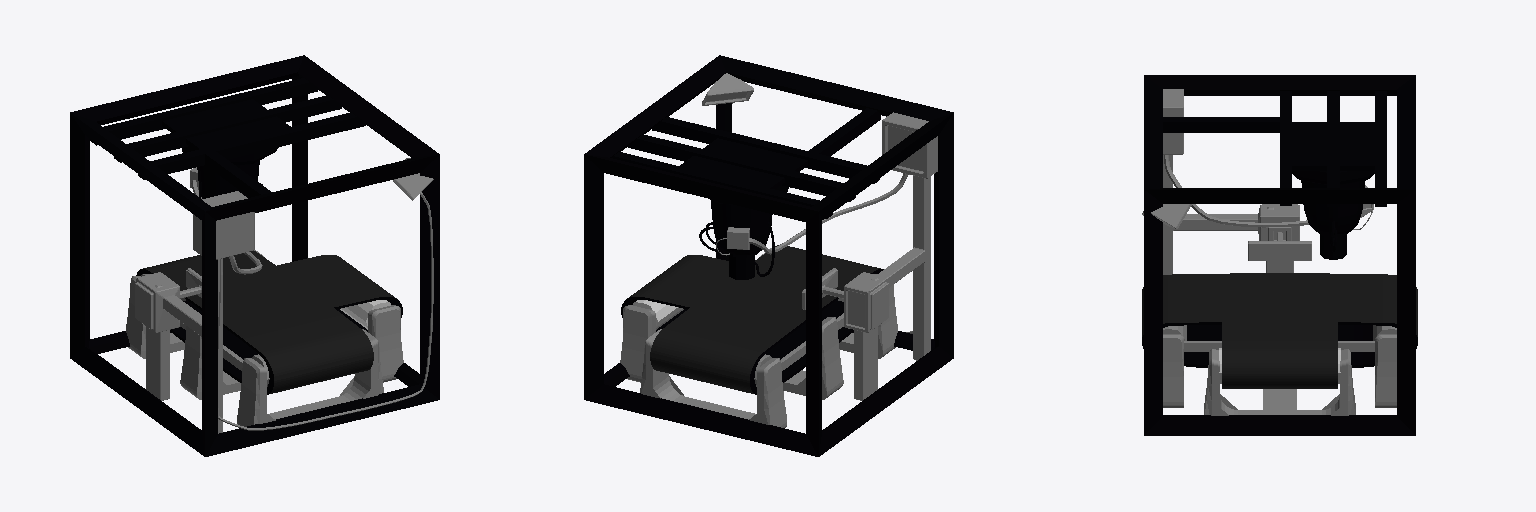
The model's file is sorting_machine.obj.
The picture shows the model from 3 angles: view 1: azimuth 30°, elevation 25°; view 2: azimuth 150°, elevation 25°; view 3: azimuth 270°, elevation 25°; orthographic projection.
Parts seen in each view (by area): view 1: Cube, belt.002, legs.002, Cube.007, Cube.004, belt.003, Plane.002, Cube.002, Cube.003, Cube.001, BézierCurve.003, Cube.008 (+1 smaller); view 2: Cube, belt.002, Cube.007, legs.002, Cube.004, belt.003, Plane.002, Cube.003, Cube.001, Cube.002, Cube.008, BézierCurve.002 (+2 smaller); view 3: Cube, belt.002, belt.003, legs.002, Cube.007, Plane.002, Cube.004, Cube.001, Cube.005, Cube.003, Cube.002, BézierCurve.002 (+3 smaller).
Boxes of the visible parts, <box> form: Cube: <box>70,55,439,456</box>; belt.002: <box>136,251,373,394</box>; legs.002: <box>126,250,403,426</box>; Cube.007: <box>135,191,254,433</box>; Cube.004: <box>138,113,365,197</box>; belt.003: <box>277,255,402,331</box>; Plane.002: <box>162,99,290,149</box>; Cube.002: <box>90,78,317,145</box>; Cube.003: <box>114,95,341,162</box>; Cube.001: <box>182,145,278,198</box>; BézierCurve.003: <box>218,192,433,430</box>; Cube.008: <box>393,158,433,200</box>; Cube: <box>584,55,953,456</box>; belt.002: <box>650,245,883,394</box>; Cube.007: <box>844,112,937,400</box>; legs.002: <box>620,248,897,427</box>; Cube.004: <box>652,108,880,183</box>; belt.003: <box>621,255,730,331</box>; Plane.002: <box>680,138,807,188</box>; Cube.003: <box>628,134,855,201</box>; Cube.001: <box>710,185,788,254</box>; Cube.002: <box>612,152,832,218</box>; Cube.008: <box>702,73,753,105</box>; BézierCurve.002: <box>749,173,908,254</box>; Cube: <box>1144,75,1415,435</box>; belt.002: <box>1142,273,1417,367</box>; belt.003: <box>1222,322,1337,388</box>; legs.002: <box>1163,334,1396,415</box>; Cube.007: <box>1163,89,1299,274</box>; Plane.002: <box>1292,122,1374,170</box>; Cube.004: <box>1163,91,1291,205</box>; Cube.001: <box>1292,171,1374,234</box>; Cube.005: <box>1248,232,1311,260</box>; Cube.003: <box>1327,91,1339,206</box>; Cube.002: <box>1375,91,1386,206</box>; BézierCurve.002: <box>1164,155,1308,227</box>.
Size of the model in its own units: 2.02 by 2 by 2.04.